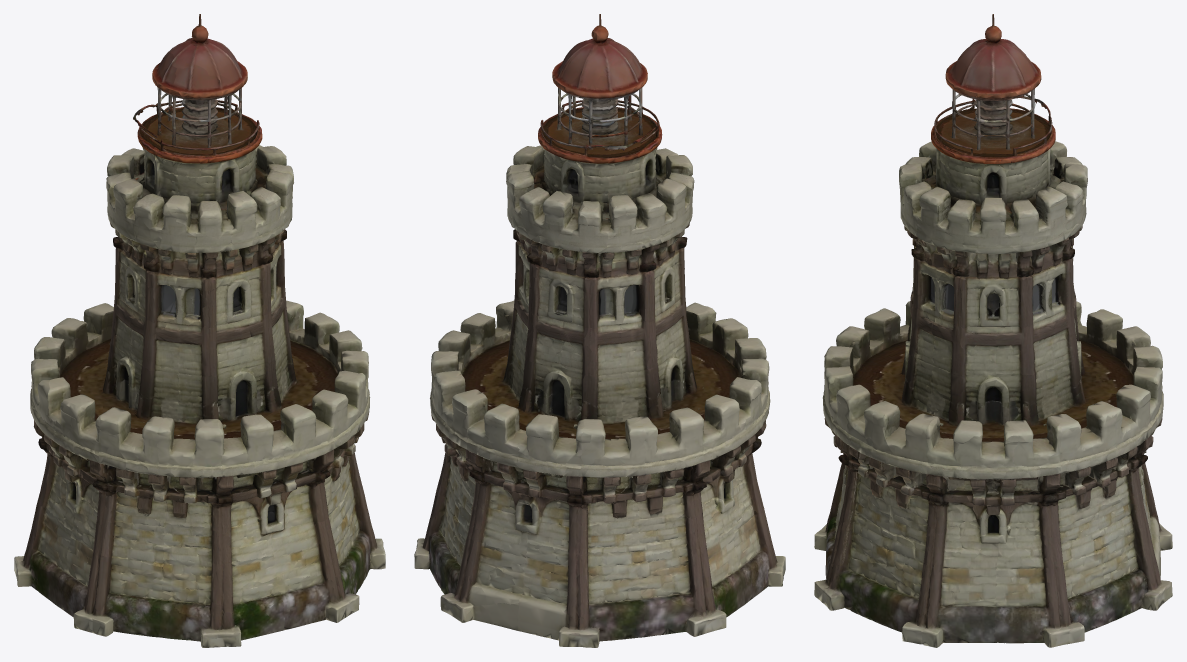
The model's file is wonder_pharos__stormwatch-lighthouse.glb.
3 views of the same model, side by side, from view 1: azimuth 30°, elevation 25°; view 2: azimuth 150°, elevation 25°; view 3: azimuth 270°, elevation 25° (orthographic).
Bounding box in the file's own units: 1.11 × 1.9 × 1.11.
1 material, 1 textured.
